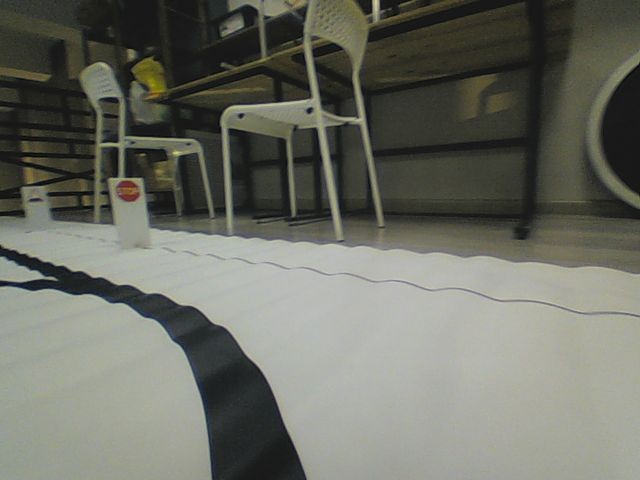Stop: (114, 180, 140, 203)
